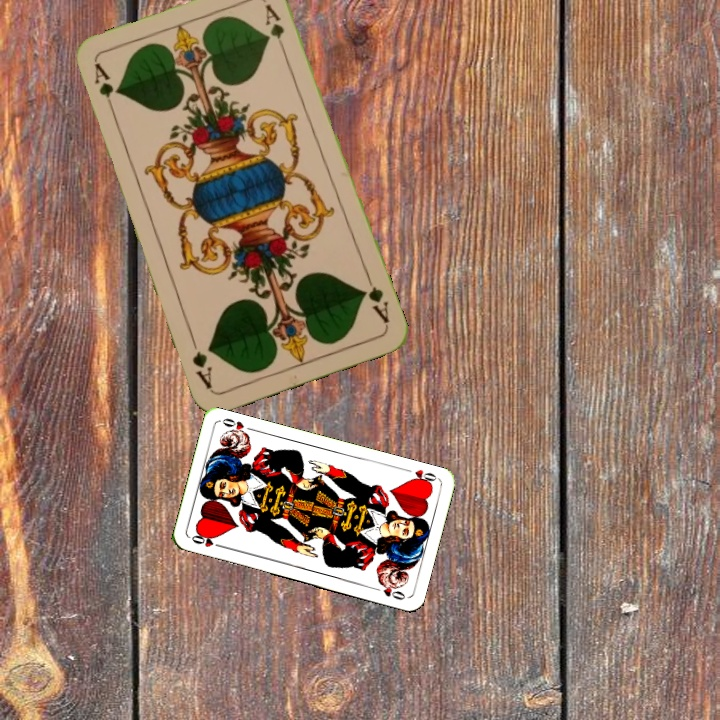GA: (357, 270, 392, 326), (90, 59, 118, 117)
HO: (400, 465, 440, 488), (187, 531, 227, 550)
